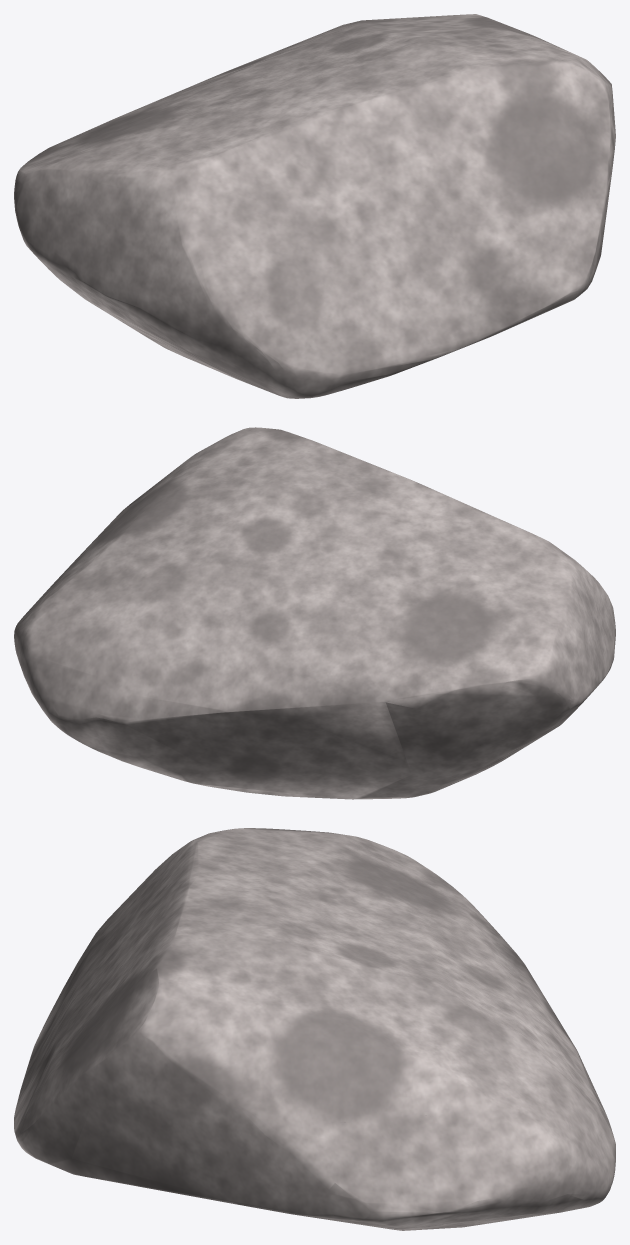
File: asteroid_2024_yr4.glb
The picture shows the model from 3 angles, top to bottom: view 1: azimuth 30°, elevation 25°; view 2: azimuth 150°, elevation 25°; view 3: azimuth 270°, elevation 25°; orthographic projection. The views are drawn at different scales.
Visible parts, largest first — view 1: tri_model_2024_YR4_2.001; view 2: tri_model_2024_YR4_2.001; view 3: tri_model_2024_YR4_2.001.
Part boxes in pixels (x1=…): tri_model_2024_YR4_2.001: x1=14, y1=14, x2=615, y2=398; tri_model_2024_YR4_2.001: x1=14, y1=427, x2=615, y2=799; tri_model_2024_YR4_2.001: x1=14, y1=828, x2=615, y2=1230.
Bounding box in the file's own units: 10.23 × 4.7 × 8.52.
1 material, 1 textured.
